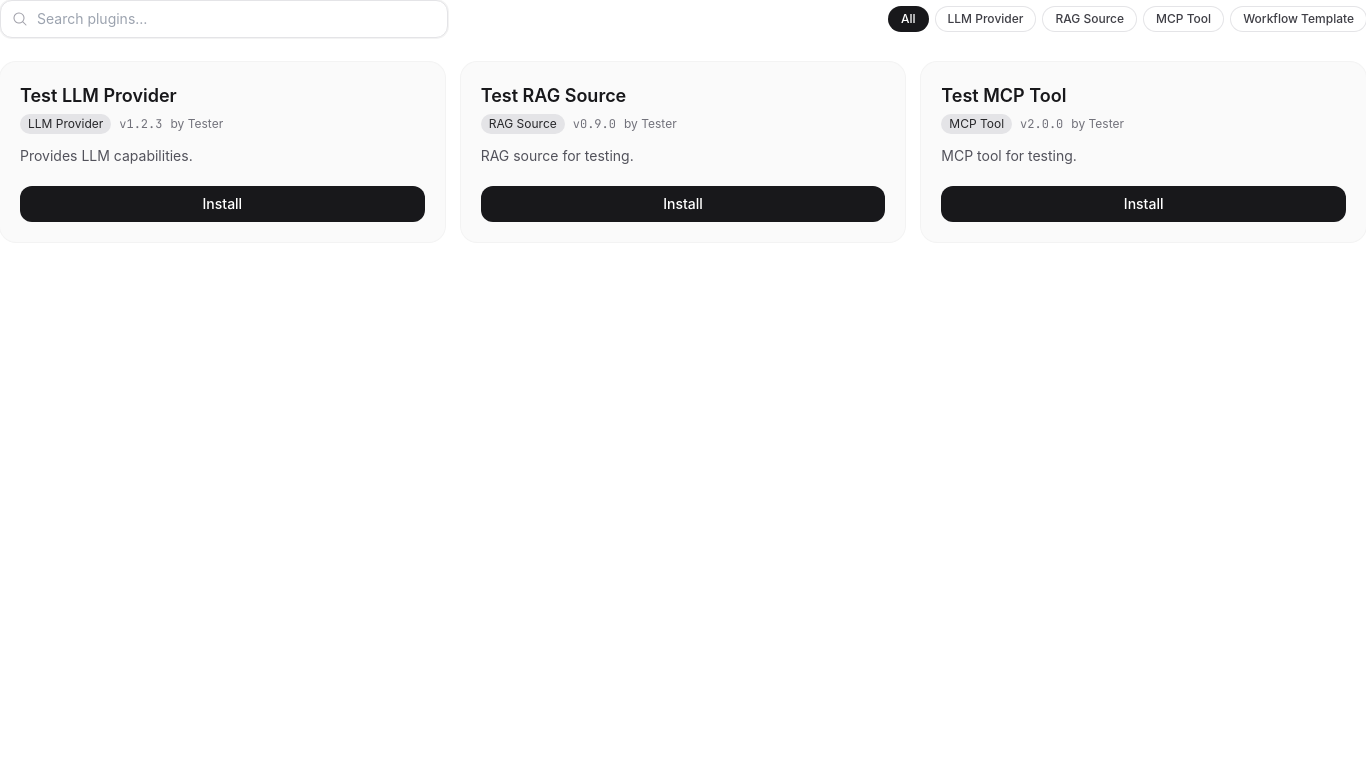
Test: MarketplacePanel › Cancel button closes the modal
The image size is (1366, 768).
Click the button with test id "install-button-plugin-llm": (222, 204) [20,186,425,222]
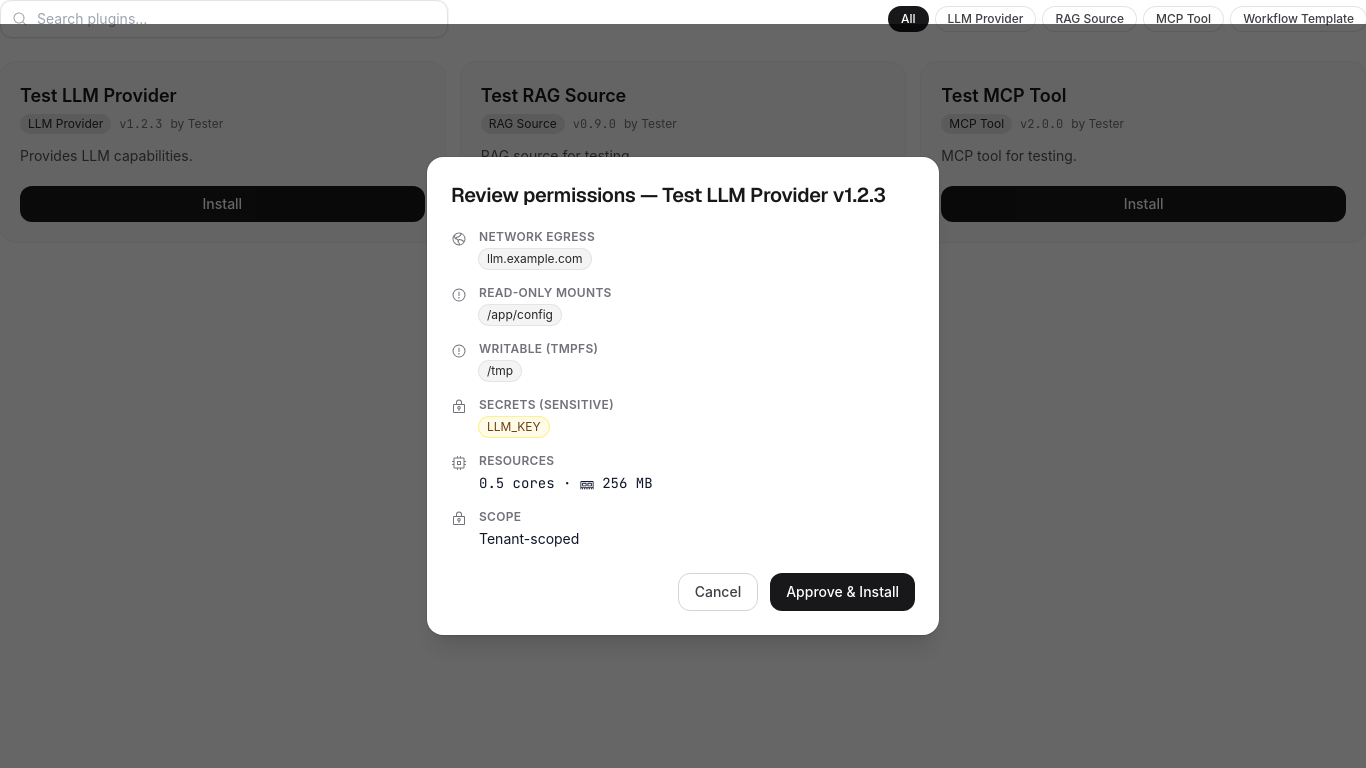
Click the button with test id "permission-cancel": (718, 592) [678,573,758,611]
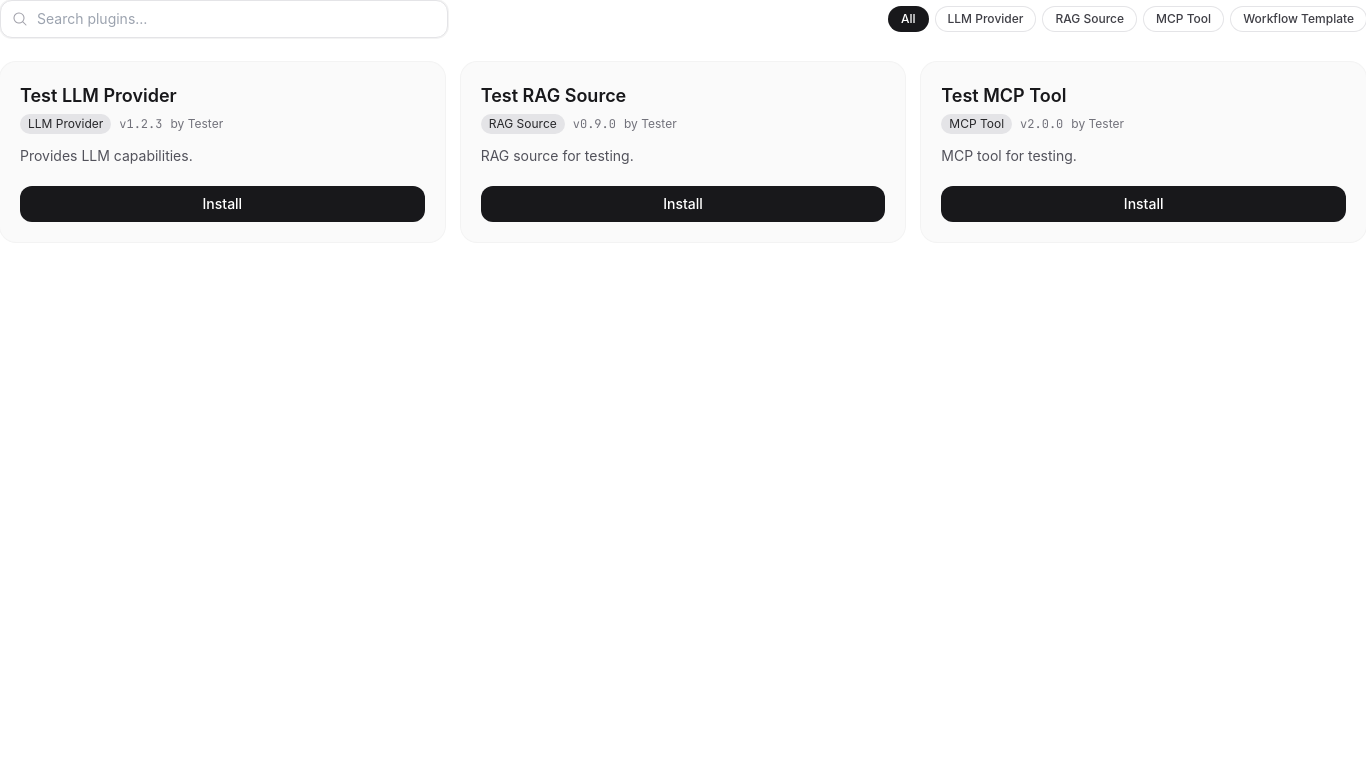
Expected: the dialog with test id "permission-modal" is gone
